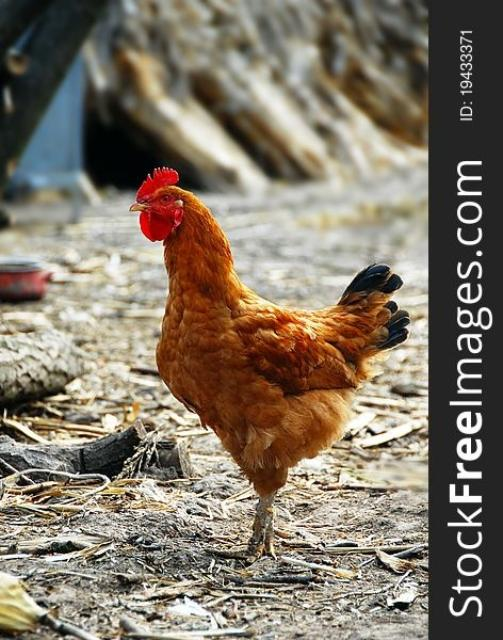Chicken: (131, 167, 412, 561)
